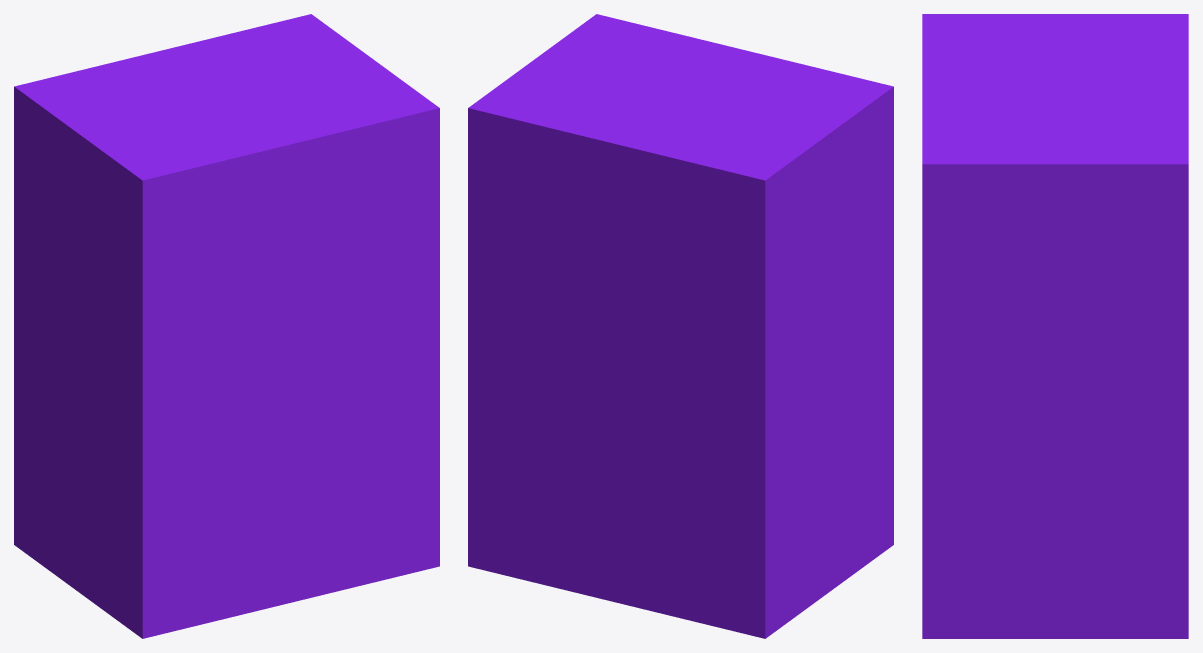
The model's file is tool_6-Group_100.gltf.
3 views of the same model, side by side, from view 1: azimuth 30°, elevation 25°; view 2: azimuth 150°, elevation 25°; view 3: azimuth 270°, elevation 25° (orthographic). The views are drawn at different scales.
Parts seen in each view (by area): view 1: <组件#19>_1; view 2: <组件#19>_1; view 3: <组件#19>_1.
Boxes of the visible parts, x1,y1,x2,y2 form: <组件#19>_1: (14,14,439,638); <组件#19>_1: (468,14,893,638); <组件#19>_1: (922,14,1188,638).
Size of the model in its own units: 32.6 by 48.03 by 24.41.
